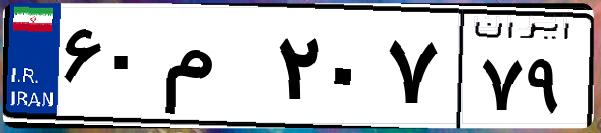0: (330, 28, 385, 110), (110, 28, 158, 98)
2: (270, 28, 330, 110)
6: (57, 26, 110, 100)
7: (385, 28, 445, 110), (475, 38, 525, 113)
9: (525, 38, 570, 115)
م: (158, 20, 270, 120)
